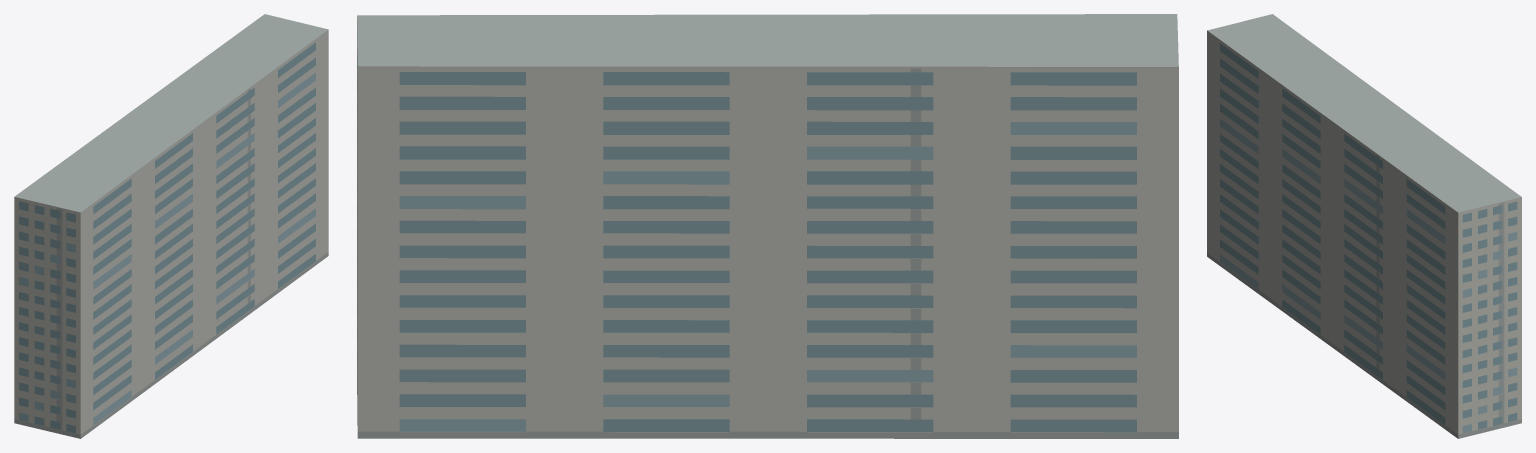
File: residential-fd49cb3e-f735-4867-b024-f66f7b33bd69.glb
3 views of the same model, side by side, from view 1: azimuth 30°, elevation 25°; view 2: azimuth 150°, elevation 25°; view 3: azimuth 270°, elevation 25° (orthographic). The views are drawn at different scales.
Visible parts, largest first — view 1: residential-fd49cb3e-f735-4867-b024-f66f7b33bd69.tmp; view 2: residential-fd49cb3e-f735-4867-b024-f66f7b33bd69.tmp; view 3: residential-fd49cb3e-f735-4867-b024-f66f7b33bd69.tmp.
Boxes of the visible parts, <box> form: residential-fd49cb3e-f735-4867-b024-f66f7b33bd69.tmp: <box>14,14,328,438</box>; residential-fd49cb3e-f735-4867-b024-f66f7b33bd69.tmp: <box>357,14,1178,438</box>; residential-fd49cb3e-f735-4867-b024-f66f7b33bd69.tmp: <box>1207,14,1521,438</box>.
Size of the model in its own units: 86.14 by 45.75 by 57.66.
